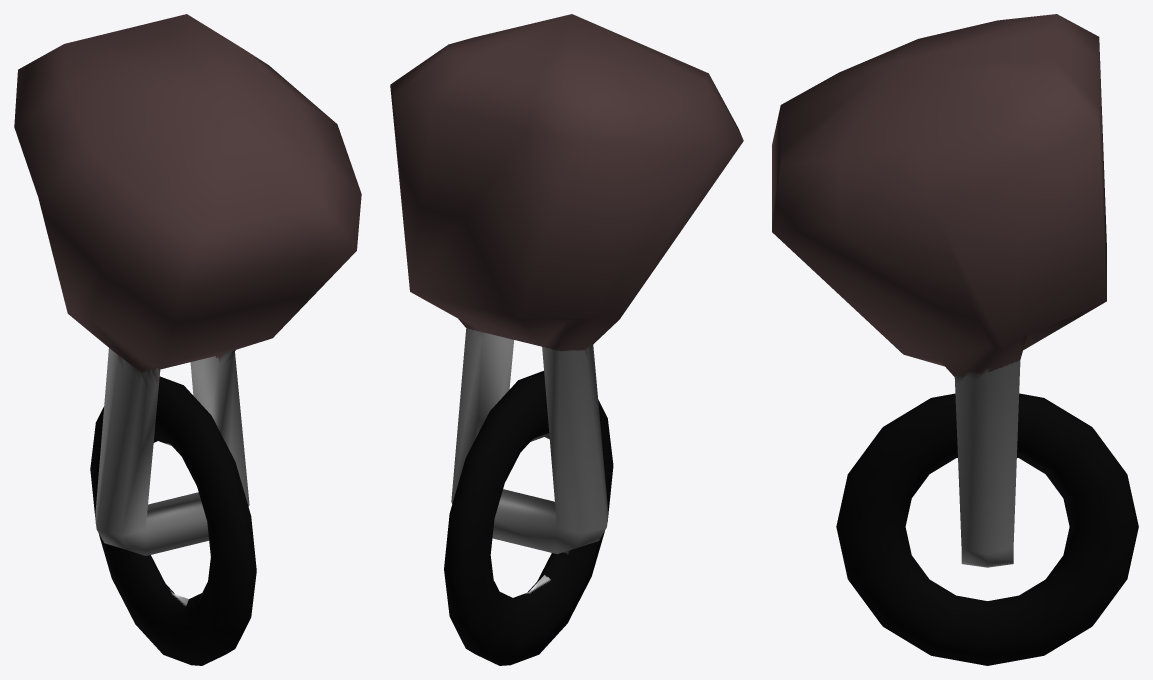
Rendered from Pies RuedasI.fbx.
3 renders of one model, left to right at view 1: azimuth 30°, elevation 25°; view 2: azimuth 150°, elevation 25°; view 3: azimuth 270°, elevation 25°, orthographic.
Visible parts, largest first — view 1: Pies RuedasI; view 2: Pies RuedasI; view 3: Pies RuedasI.
Boxes of the visible parts, box(x1,y1,x2,y2) form: Pies RuedasI: box(14, 14, 361, 665); Pies RuedasI: box(390, 14, 743, 665); Pies RuedasI: box(772, 14, 1138, 665).
Size of the model in its own units: 16.38 by 31.64 by 17.16.
